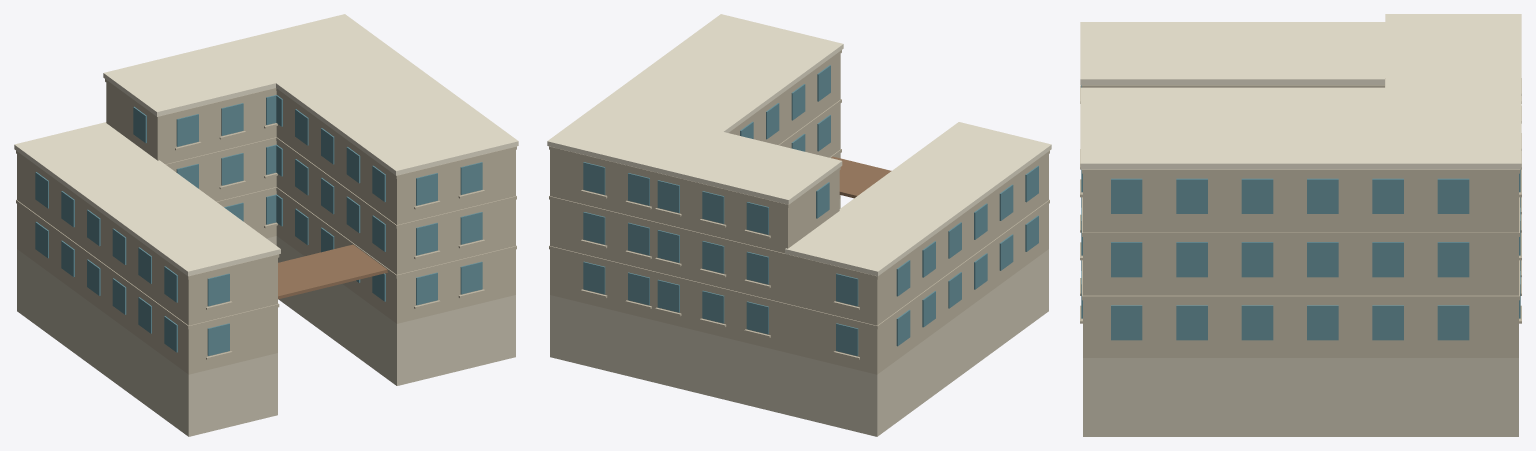
The model's file is courtyard-block-0.glb.
3 renders of one model, left to right at view 1: azimuth 30°, elevation 25°; view 2: azimuth 150°, elevation 25°; view 3: azimuth 270°, elevation 25°, orthographic. The views are drawn at different scales.
Size of the model in its own units: 22.25 by 13.9 by 20.28.
